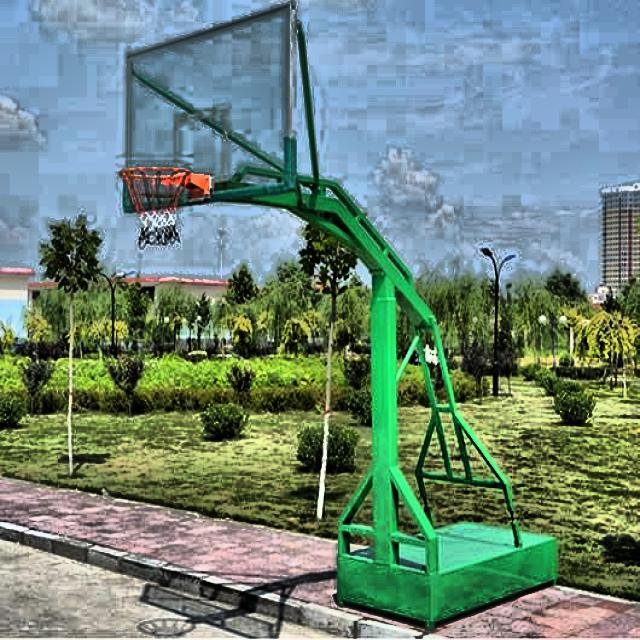rim: (122, 166, 191, 249)
